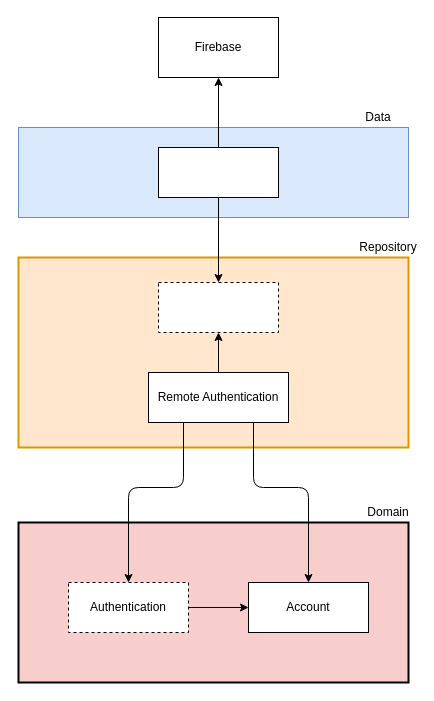
This 434x701 diagram has some shape labels left out. Here are the shapes that lost their labels. From the top down, the centre of each, then its label:
At [218,172]: "Adapter".
At [218,307]: "HttpClient".
